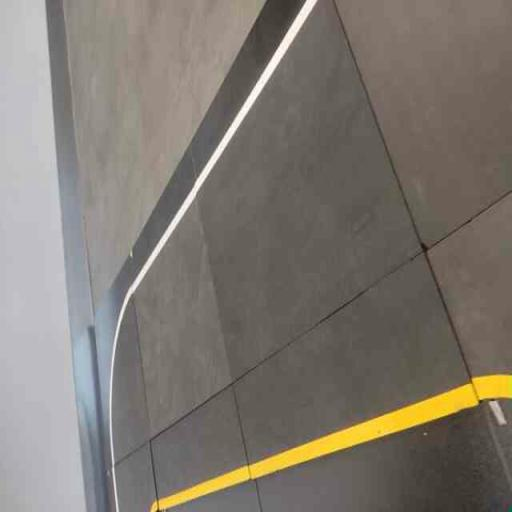straight: (133, 0, 483, 511)
